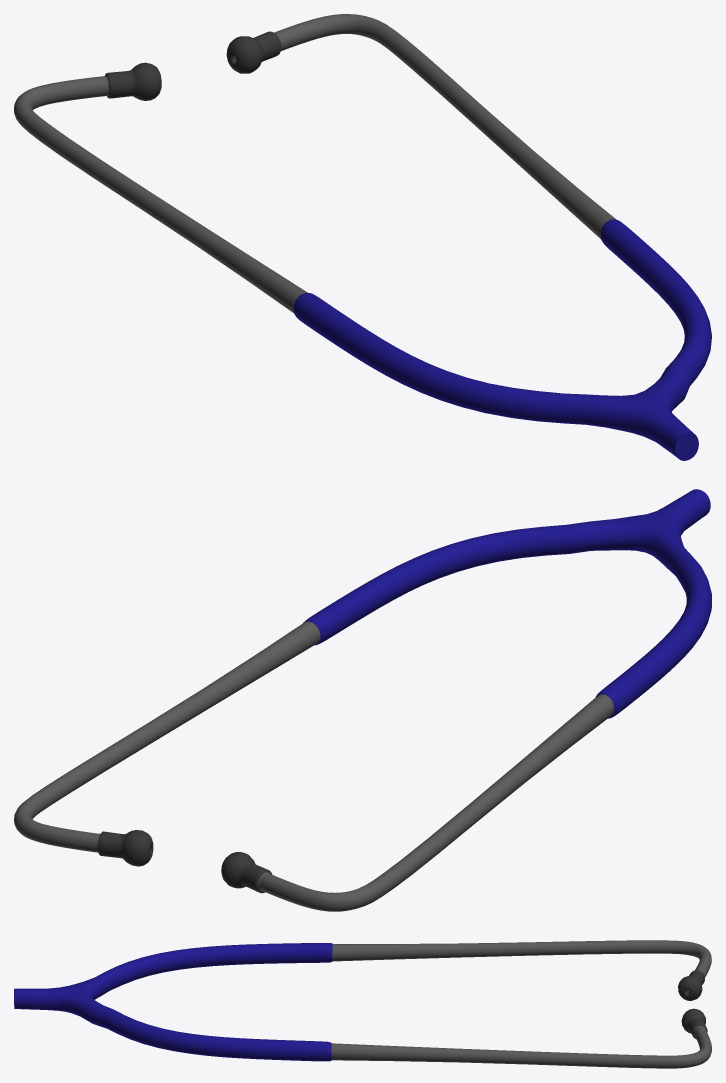
Rendered from StethescopeArms2.FBX.
3 views of the same model, one above another, from view 1: azimuth 30°, elevation 25°; view 2: azimuth 150°, elevation 25°; view 3: azimuth 270°, elevation 25° (orthographic). The views are drawn at different scales.
Visible parts, largest first — view 1: Stethescope Arms; view 2: Stethescope Arms; view 3: Stethescope Arms.
Part boxes in pixels (x1,y1,x2,y2): Stethescope Arms: (14,14,711,460); Stethescope Arms: (14,489,711,911); Stethescope Arms: (14,940,711,1068).
Bounding box in the file's own units: 48.43 × 4.31 × 119.
